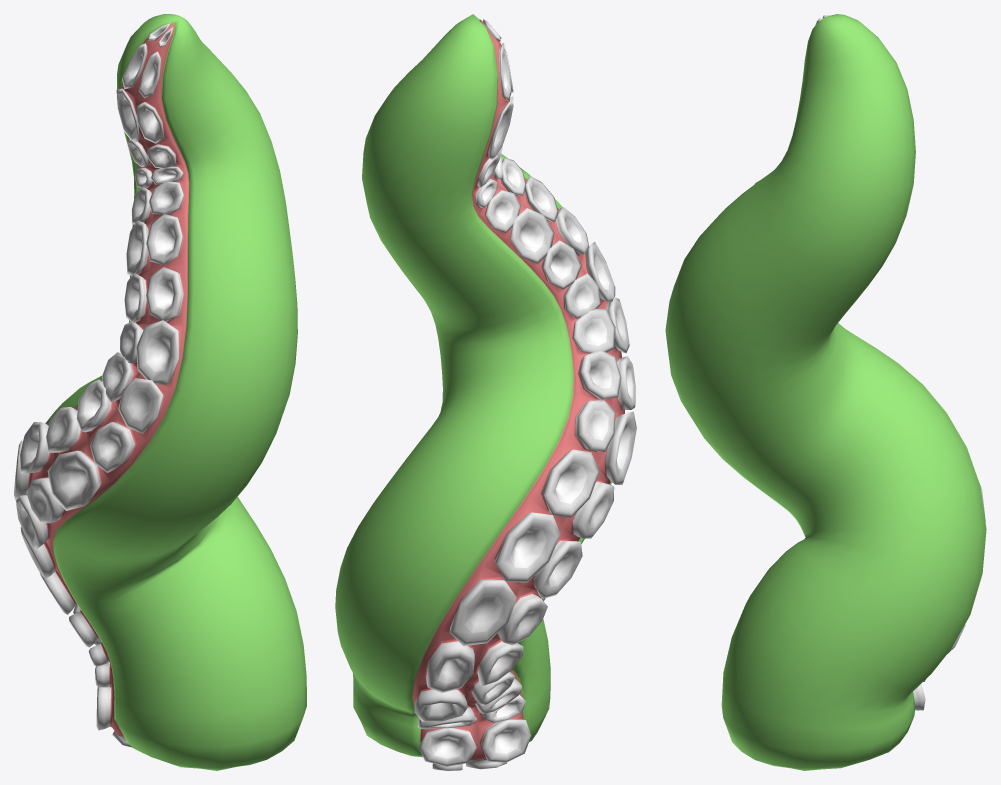
Rendered from Tentacle_Big02.fbx.
The picture shows the model from 3 angles, left to right: view 1: azimuth 30°, elevation 25°; view 2: azimuth 150°, elevation 25°; view 3: azimuth 270°, elevation 25°; orthographic projection. The views are drawn at different scales.
Parts seen in each view (by area): view 1: TentacleCurve_Big02.001; view 2: TentacleCurve_Big02.001; view 3: TentacleCurve_Big02.001.
Boxes of the visible parts, bbox=[...] form: TentacleCurve_Big02.001: bbox=[14, 14, 306, 770]; TentacleCurve_Big02.001: bbox=[335, 14, 636, 770]; TentacleCurve_Big02.001: bbox=[665, 14, 986, 770].
Bounding box in the file's own units: 291 × 838 × 335.
